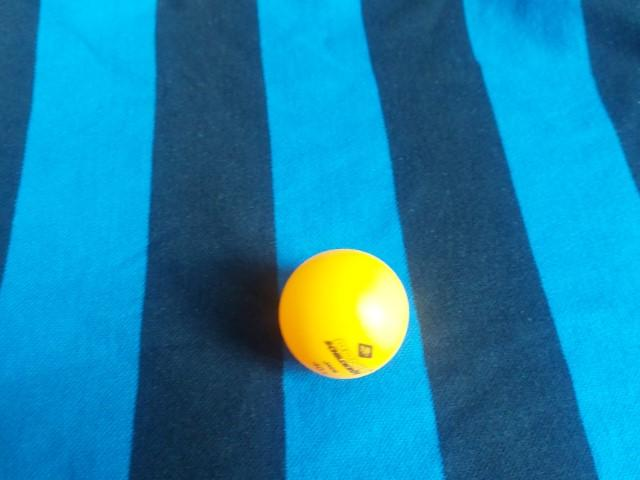oball: (273, 240, 420, 385)
